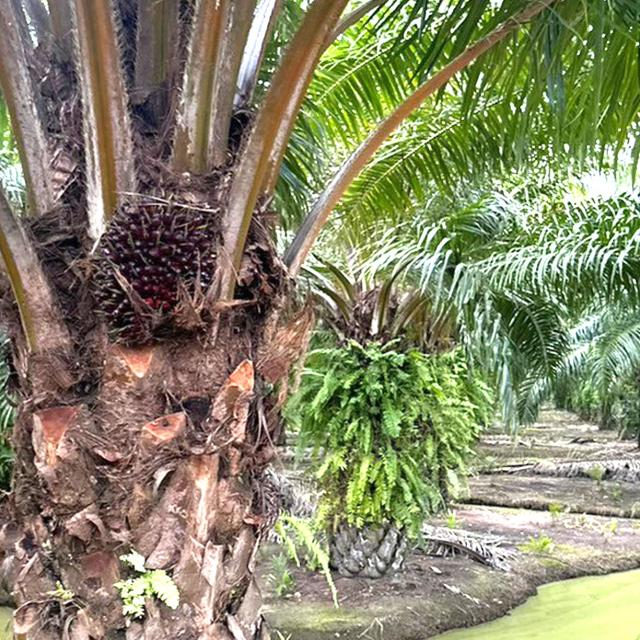ripe: (81, 182, 232, 344)
